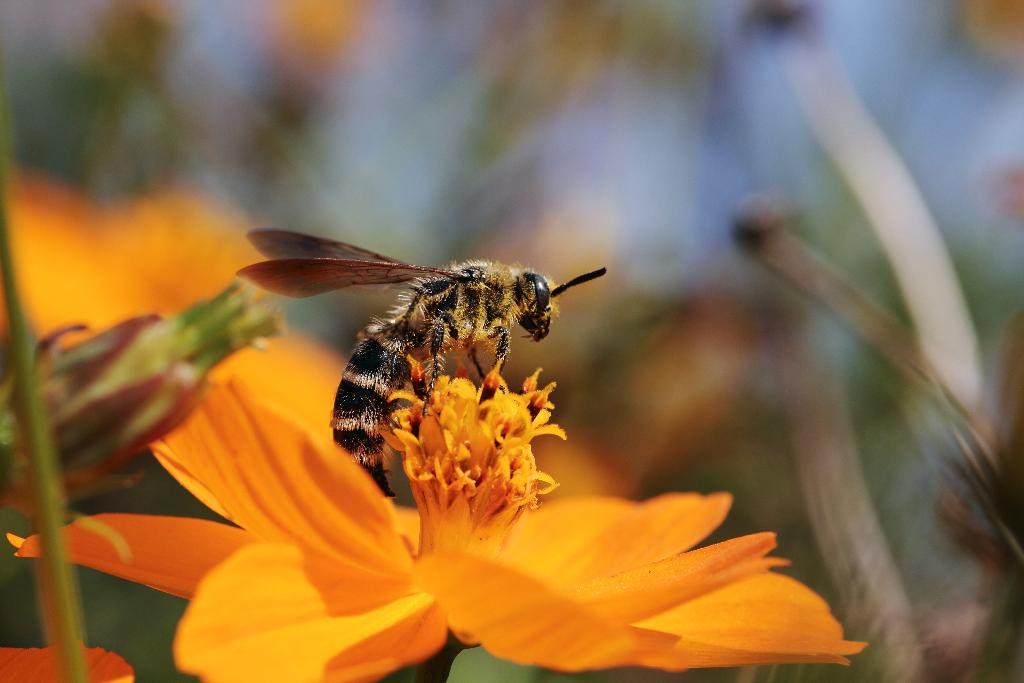bee: (242, 226, 589, 473)
insect: (60, 253, 819, 669)
